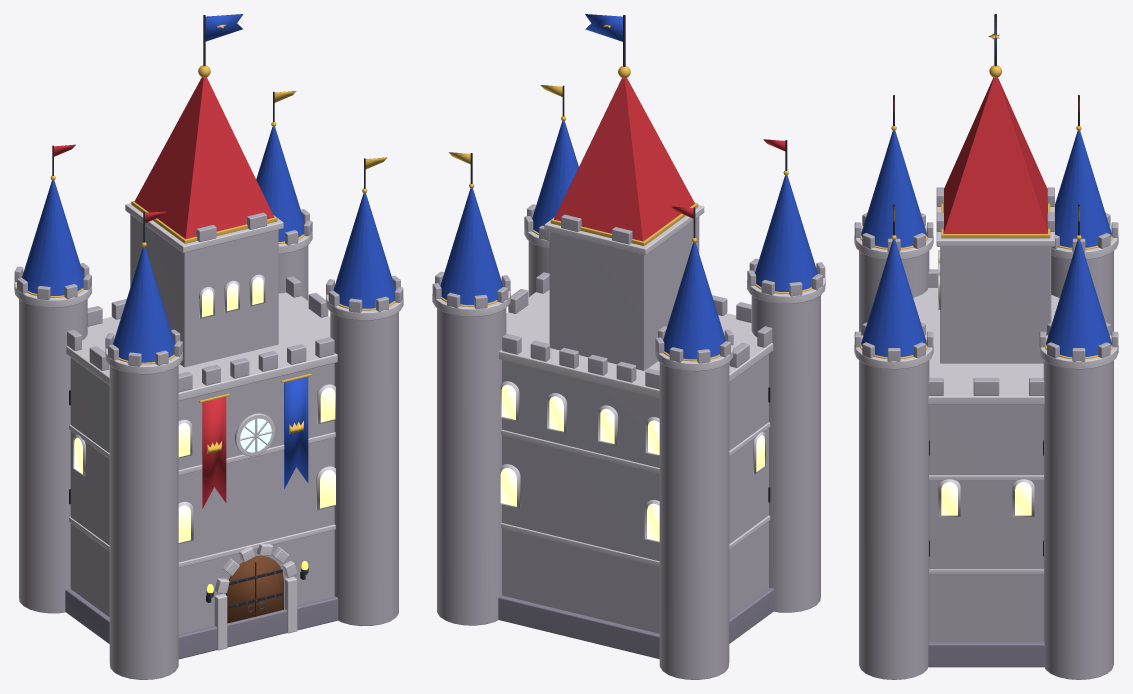
File: faire_keep.glb
3 views of the same model, side by side, from view 1: azimuth 30°, elevation 25°; view 2: azimuth 150°, elevation 25°; view 3: azimuth 270°, elevation 25° (orthographic).
Parts seen in each view (by area): view 1: Keep; view 2: Keep; view 3: Keep.
Part boxes in pixels (bbox=[...]): Keep: bbox=[14, 14, 403, 679]; Keep: bbox=[432, 14, 825, 679]; Keep: bbox=[854, 14, 1118, 679].
Size of the model in its own units: 18.3 by 35.6 by 14.3.
